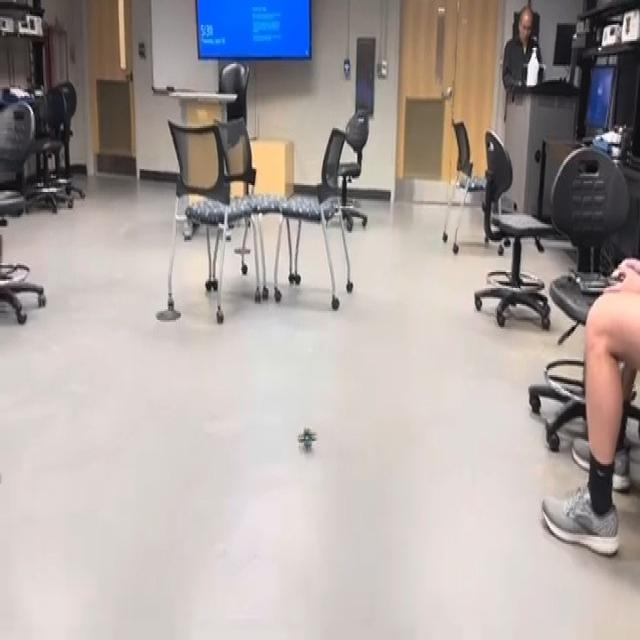drone: (288, 410, 324, 461)
